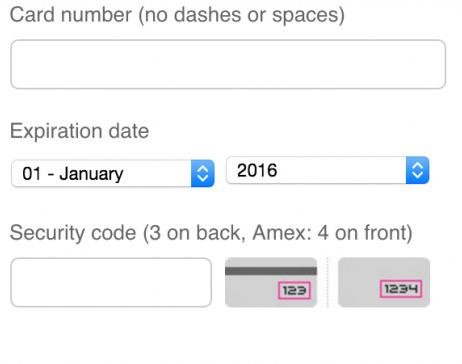field: (8, 36, 448, 91), (8, 256, 217, 311), (8, 158, 218, 191), (224, 154, 429, 186)
field_with_label: (4, 2, 451, 95), (4, 120, 221, 194)
